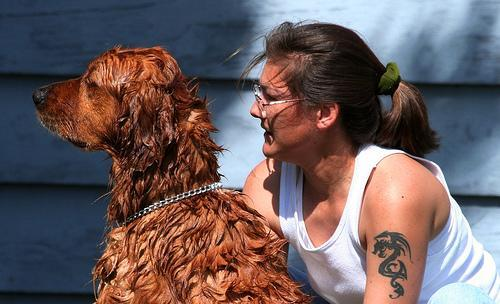Irish_setter: (31, 42, 311, 303)
